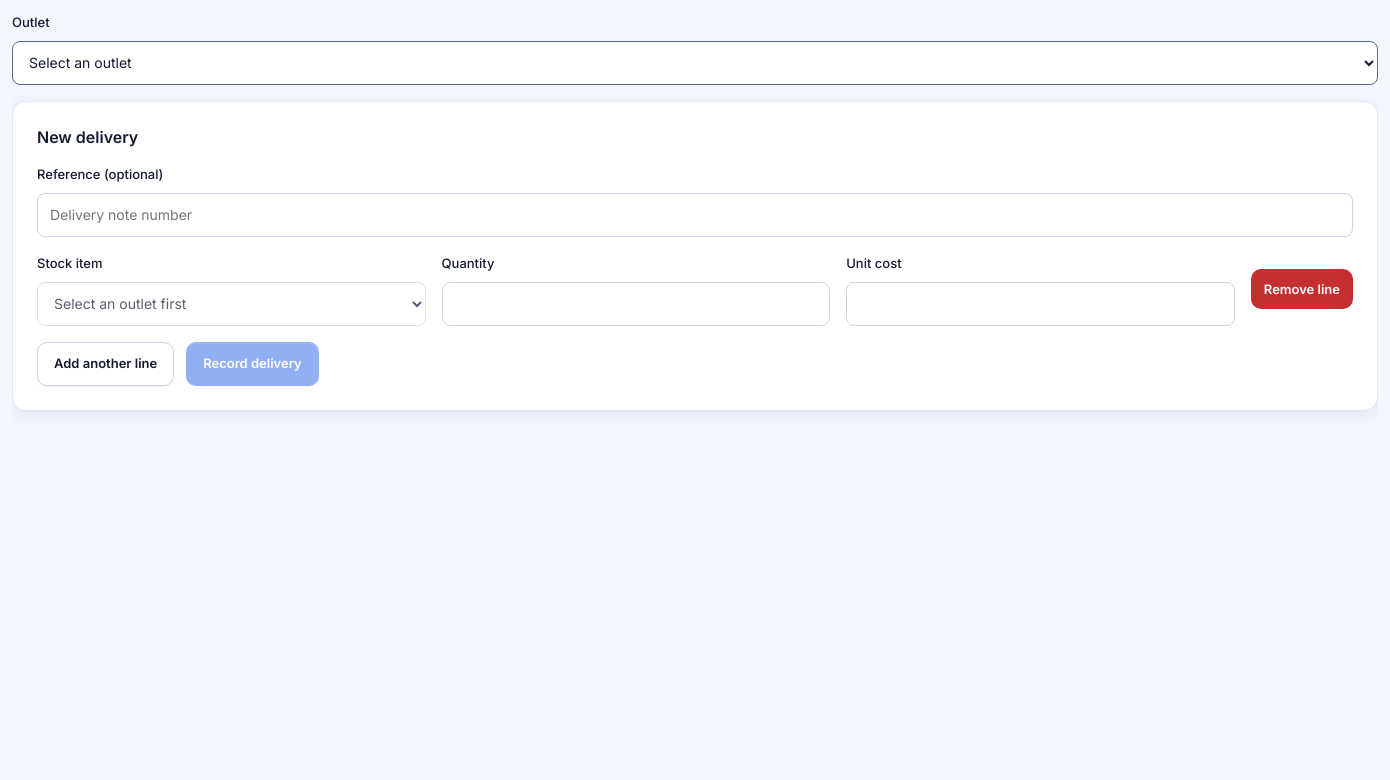
<StockGoodsReceivedTab> › the submit button is disabled until at least one complete line exists
The width and height of the screenshot is (1390, 780).
Select "Main Bar" in the dropdown labelled "Outlet": (695, 63) [12,41,1378,85]
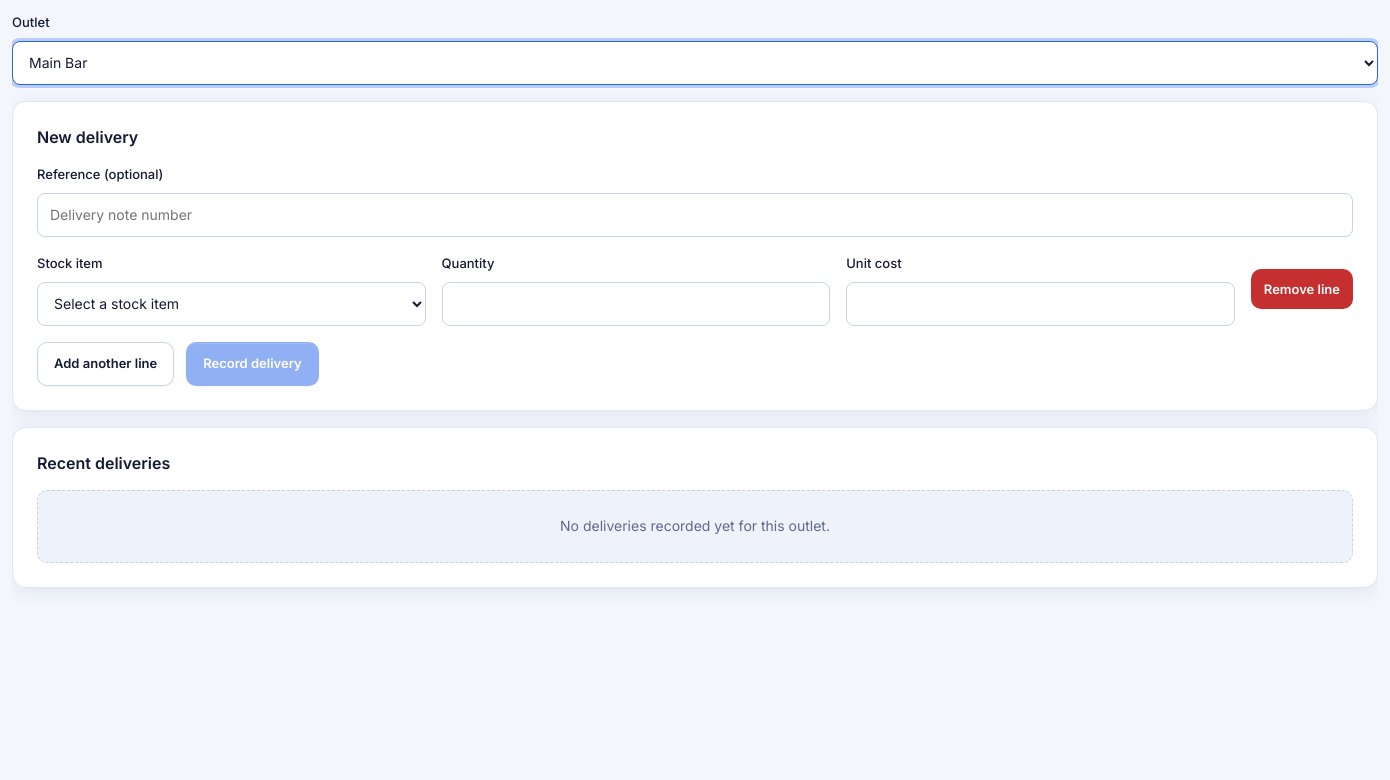
Expected: the heading "New delivery" is shown, [37,127,138,147]
Expected: the button "Record delivery" is disabled, [186,342,319,386]
Select "Vodka (ml)" in the dropdown labelled "Stock item": (231, 304) [37,282,426,326]
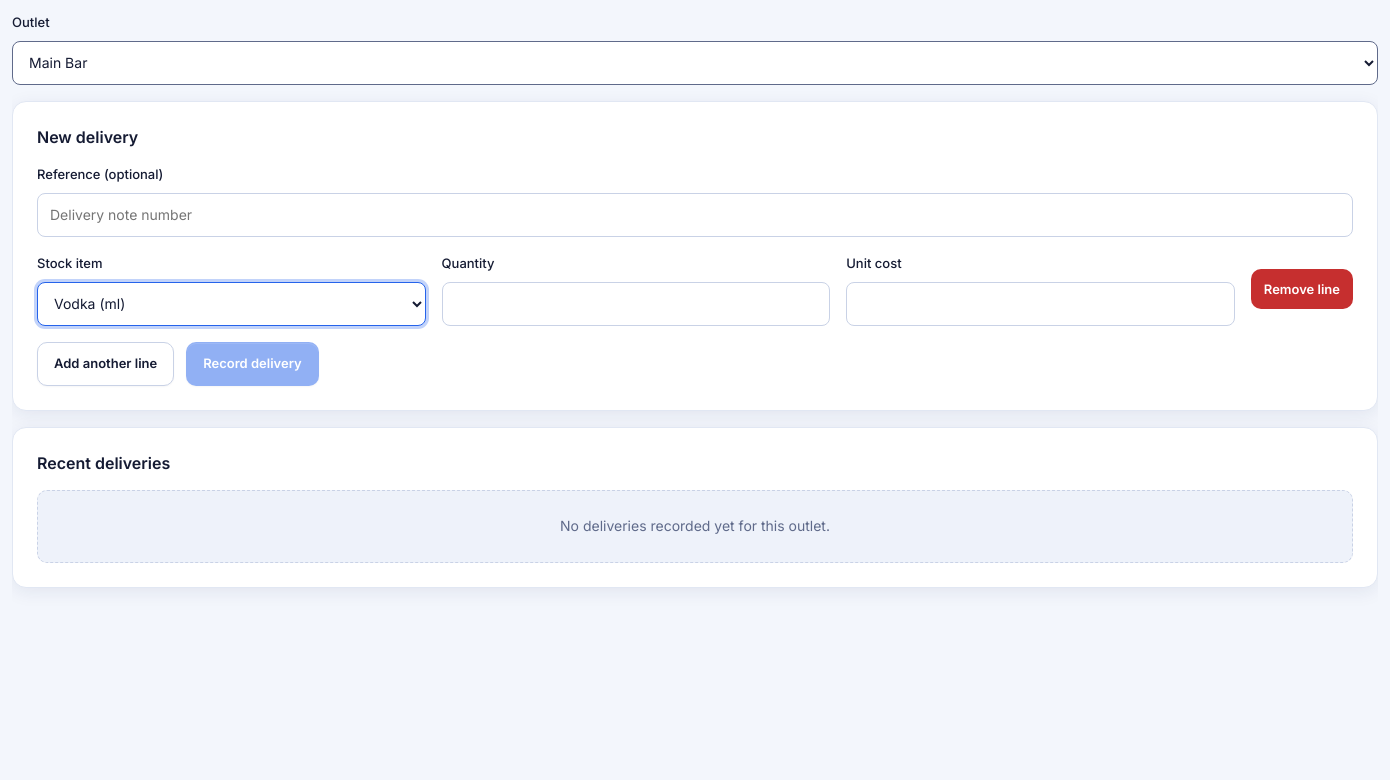
In the number field labelled "Quantity": (636, 304) [442,282,830,326], type "10"
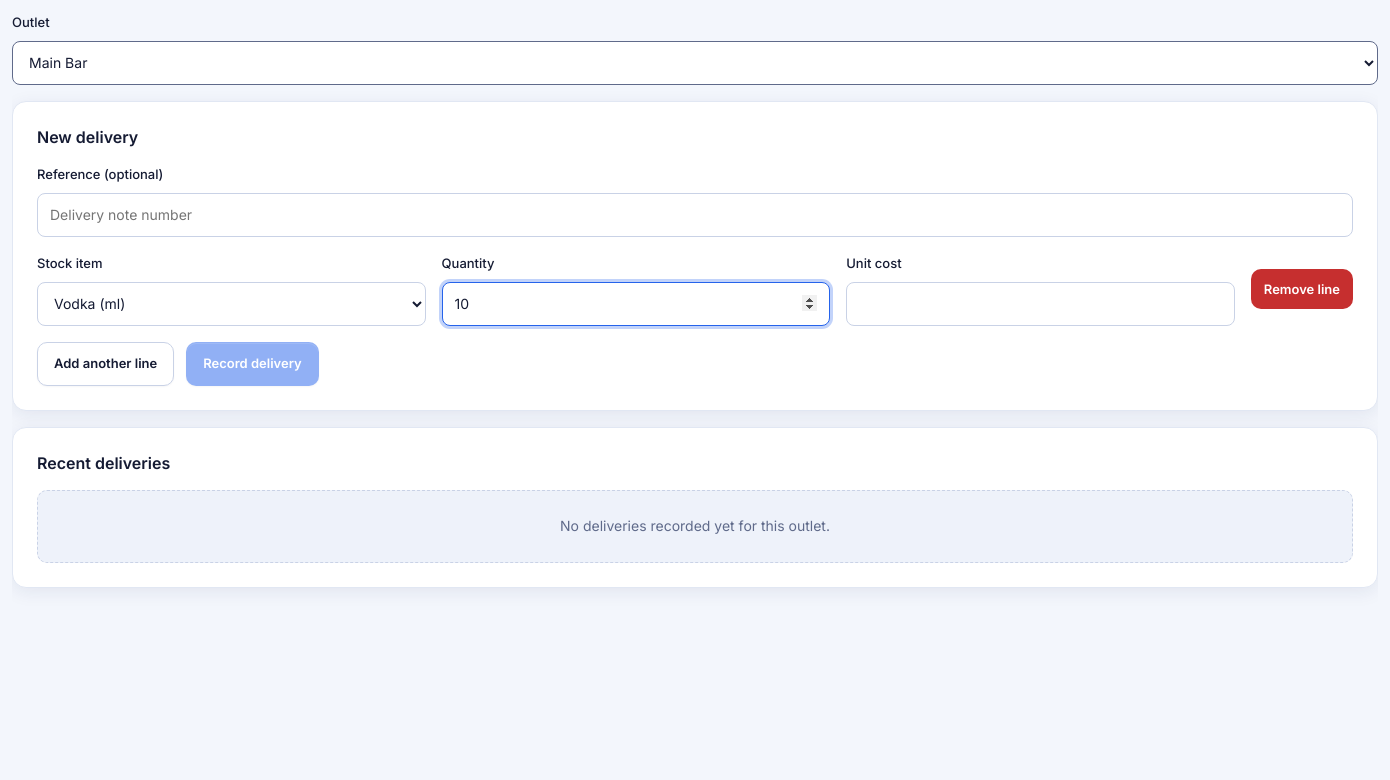
In the number field labelled "Unit cost": (1040, 304) [846,282,1235,326], type "6.50"
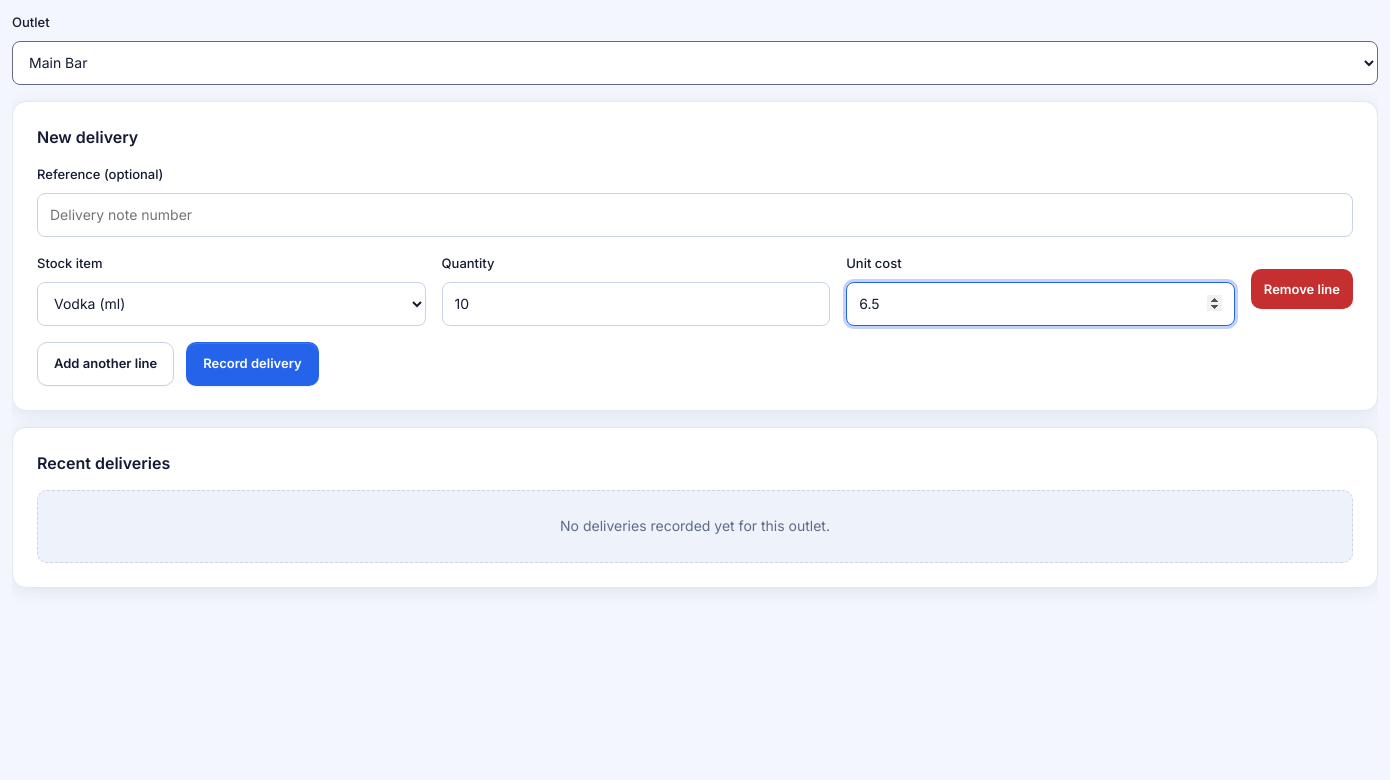
Expected: the button "Record delivery" is enabled, [186,342,319,386]
